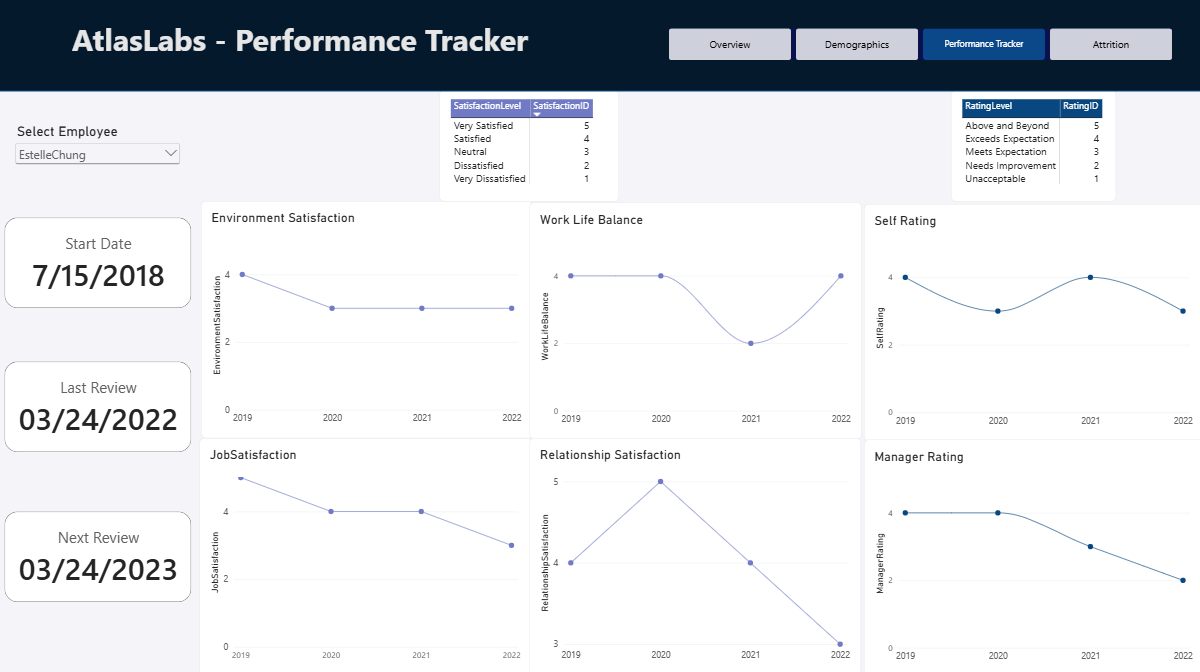

What the dashboard file says about the page in this screenshot:
{"tool":"powerbi","page":{"name":"Performance Tracker","canvas":[1920,1080],"ordinal":2},"visuals":[{"type":"cardVisual","fields":{"Data":["Min(DimEmployee.HireDate)"]},"box":[12.5,350,297.9,144.8],"z":0},{"type":"cardVisual","fields":{"Data":["_Measures.LastReviewDate"]},"box":[12.5,580,297.9,144.8],"z":1000},{"type":"cardVisual","fields":{"Data":["_Measures.NextReviewDate"]},"box":[12.5,817.5,297.9,144.8],"z":2000},{"type":"lineChart","title":"Environment Satisfaction","fields":{"Category":["DimDate.Year"],"Y":["_Measures.EnvironmentSatisfaction"]},"box":[325,325,527.5,377.5],"z":3000},{"type":"lineChart","title":"JobSatisfaction","fields":{"Category":["DimDate.Year"],"Y":["_Measures.JobSatisfaction"]},"box":[322.5,702.5,528.6,376.7],"z":4000},{"type":"lineChart","title":"Work Life Balance","fields":{"Category":["DimDate.Year"],"Y":["_Measures.WorkLifeBalance"]},"box":[847.5,327.5,528.6,376.7],"z":5000},{"type":"lineChart","title":"Relationship Satisfaction","fields":{"Category":["DimDate.Year"],"Y":["_Measures.RelationshipSatisfaction"]},"box":[847.5,702.5,527.5,377.5],"z":6000},{"type":"slicer","fields":{"Values":["DimEmployee.FullName"]},"box":[25,200,272.5,75],"z":7000},{"type":"tableEx","fields":{"Values":["DimSatisfiedLevel.SatisfactionLevel","DimSatisfiedLevel.SatisfactionID"]},"box":[705,147.5,285,177.5],"z":8000},{"type":"lineChart","title":"Self Rating","fields":{"Category":["DimDate.Year"],"Y":["_Measures.SelfRating"]},"box":[1379.2,328.1,540.8,376.7],"z":9000},{"type":"lineChart","title":"Manager Rating","fields":{"Category":["DimDate.Year"],"Y":["_Measures.ManagerRating"]},"box":[1379.2,704.8,540.8,376.7],"z":10000},{"type":"tableEx","fields":{"Values":["DimRatingLevel.RatingLevel","DimRatingLevel.RatingID"]},"box":[1517.5,147.5,262.5,177.5],"z":11000},{"type":"shape","box":[0,0,1920,150],"z":12000},{"type":"textbox","box":[120,32.5,977.5,77.5],"z":13000},{"type":"pageNavigator","box":[1070,50,800,50],"z":13001}]}

Visuals, with their boxes in screenshot pixels (x1, y1, x2, y2), scaled from the page's 1920x1080 canvas onto the 1200x672 screenshot:
cardVisual - Min(DimEmployee.HireDate): [8, 218, 194, 308]
cardVisual - _Measures.LastReviewDate: [8, 361, 194, 451]
cardVisual - _Measures.NextReviewDate: [8, 509, 194, 599]
"Environment Satisfaction" lineChart: [203, 202, 533, 437]
"JobSatisfaction" lineChart: [202, 437, 532, 671]
"Work Life Balance" lineChart: [530, 204, 860, 438]
"Relationship Satisfaction" lineChart: [530, 437, 859, 671]
slicer - DimEmployee.FullName: [16, 124, 186, 171]
tableEx - DimSatisfiedLevel.SatisfactionLevel x DimSatisfiedLevel.SatisfactionID: [441, 92, 619, 202]
"Self Rating" lineChart: [862, 204, 1199, 439]
"Manager Rating" lineChart: [862, 439, 1199, 671]
tableEx - DimRatingLevel.RatingLevel x DimRatingLevel.RatingID: [948, 92, 1112, 202]
shape: [0, 0, 1199, 93]
textbox: [75, 20, 686, 68]
pageNavigator: [669, 31, 1169, 62]
